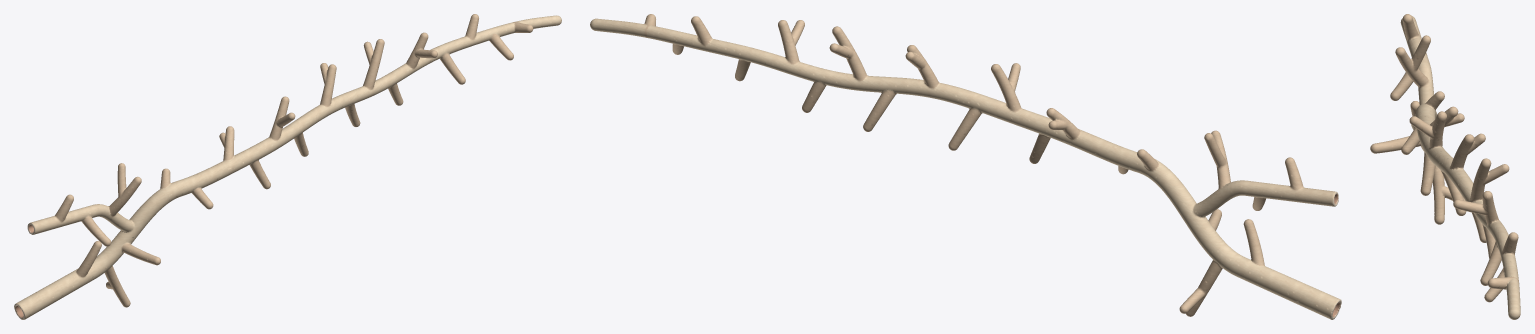
The model's file is ducts.glb.
3 renders of one model, left to right at view 1: azimuth 30°, elevation 25°; view 2: azimuth 150°, elevation 25°; view 3: azimuth 270°, elevation 25°, orthographic. The views are drawn at different scales.
Visible parts, largest first — view 1: PA_DuctNetwork; view 2: PA_DuctNetwork; view 3: PA_DuctNetwork.
Part boxes in pixels (x1=…): PA_DuctNetwork: x1=14, y1=14, x2=561, y2=319; PA_DuctNetwork: x1=590, y1=14, x2=1341, y2=319; PA_DuctNetwork: x1=1370, y1=14, x2=1520, y2=319.
Size of the model in its own units: 0.1495 by 0.0459 by 0.0275.
Materials: 5 (5 with a texture image).
